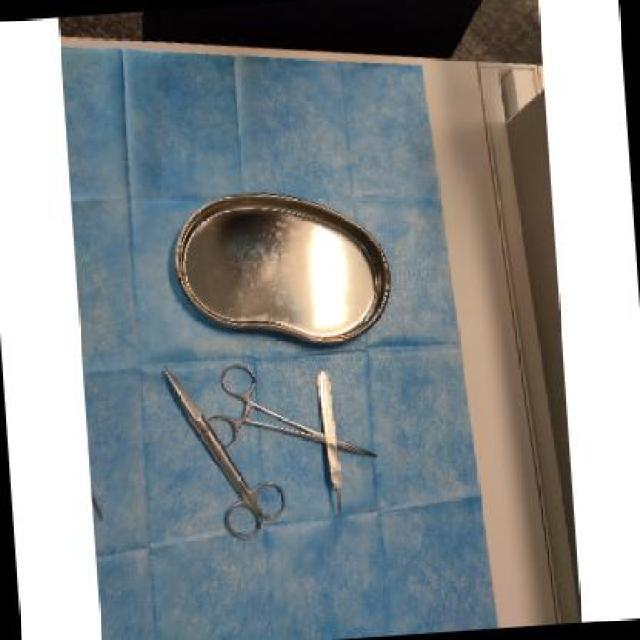tools_table: (81, 116, 433, 562)
